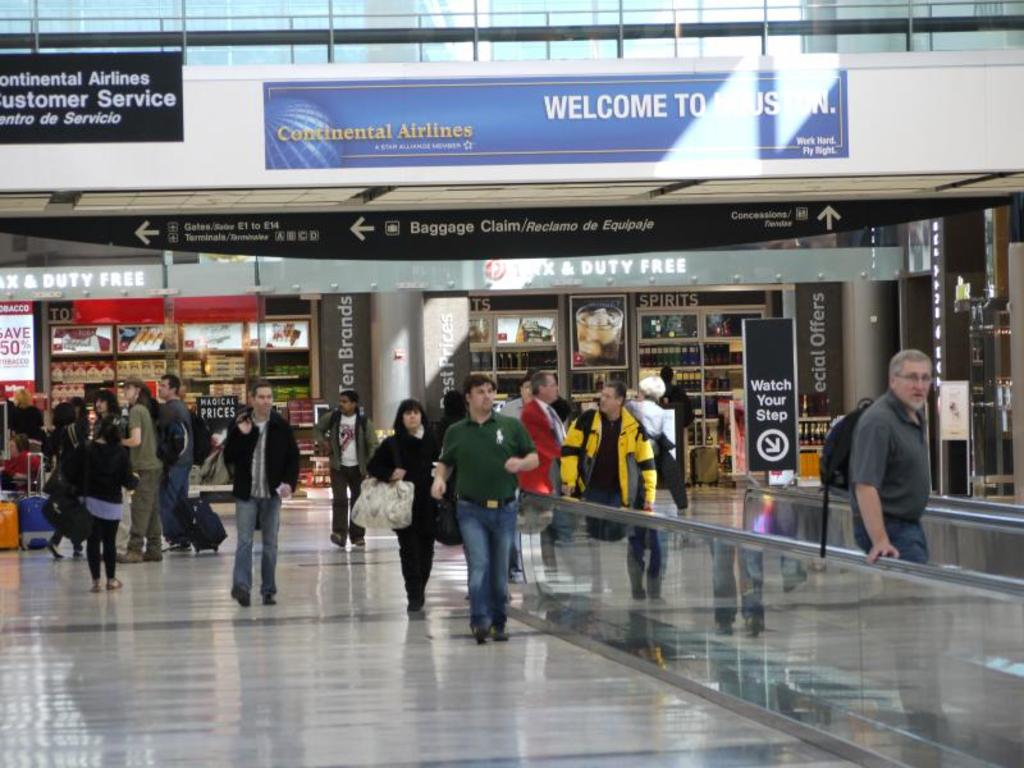Person: (0, 376, 300, 610), (850, 348, 980, 763), (498, 375, 697, 629), (430, 371, 541, 644), (350, 400, 441, 611), (310, 388, 378, 550)
